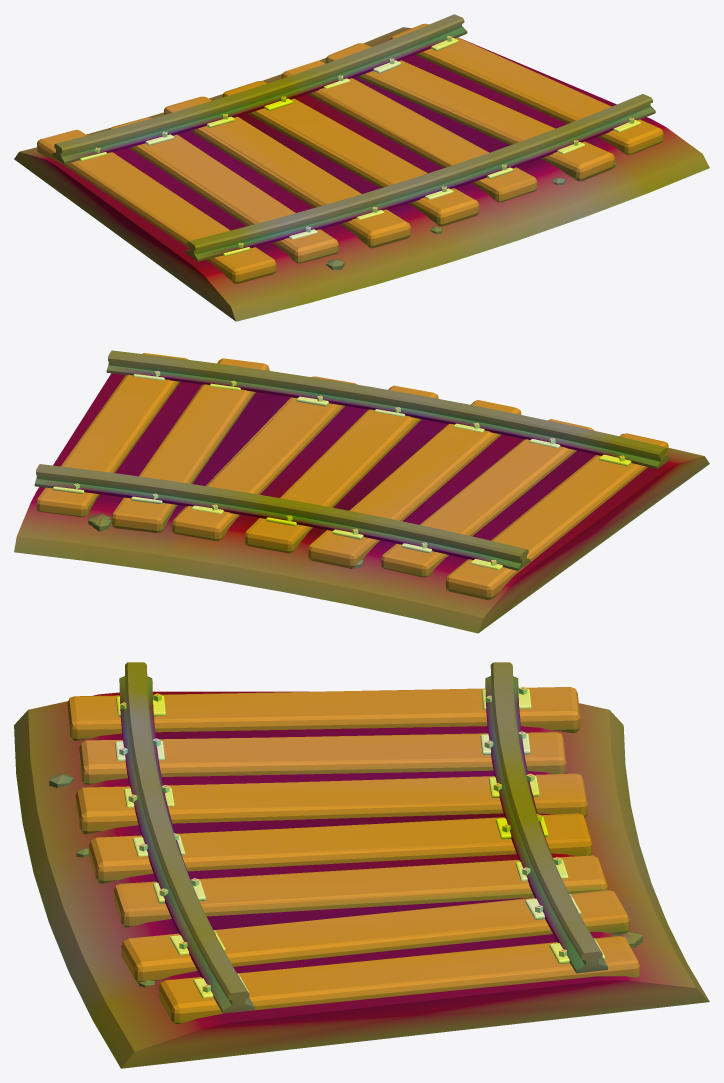
Rendered from Track_Curve_R20_15_B.fbx.
3 renders of one model, top to bottom at view 1: azimuth 30°, elevation 25°; view 2: azimuth 150°, elevation 25°; view 3: azimuth 270°, elevation 25°, orthographic. The views are drawn at different scales.
Parts seen in each view (by area): view 1: Track_Curve_R20_15_B; view 2: Track_Curve_R20_15_B; view 3: Track_Curve_R20_15_B.
Boxes of the visible parts, <box> form: Track_Curve_R20_15_B: <box>14,14,709,321</box>; Track_Curve_R20_15_B: <box>14,350,709,633</box>; Track_Curve_R20_15_B: <box>14,662,709,1068</box>.
Bounding box in the file's own units: 5.73 × 0.49 × 4.91.
